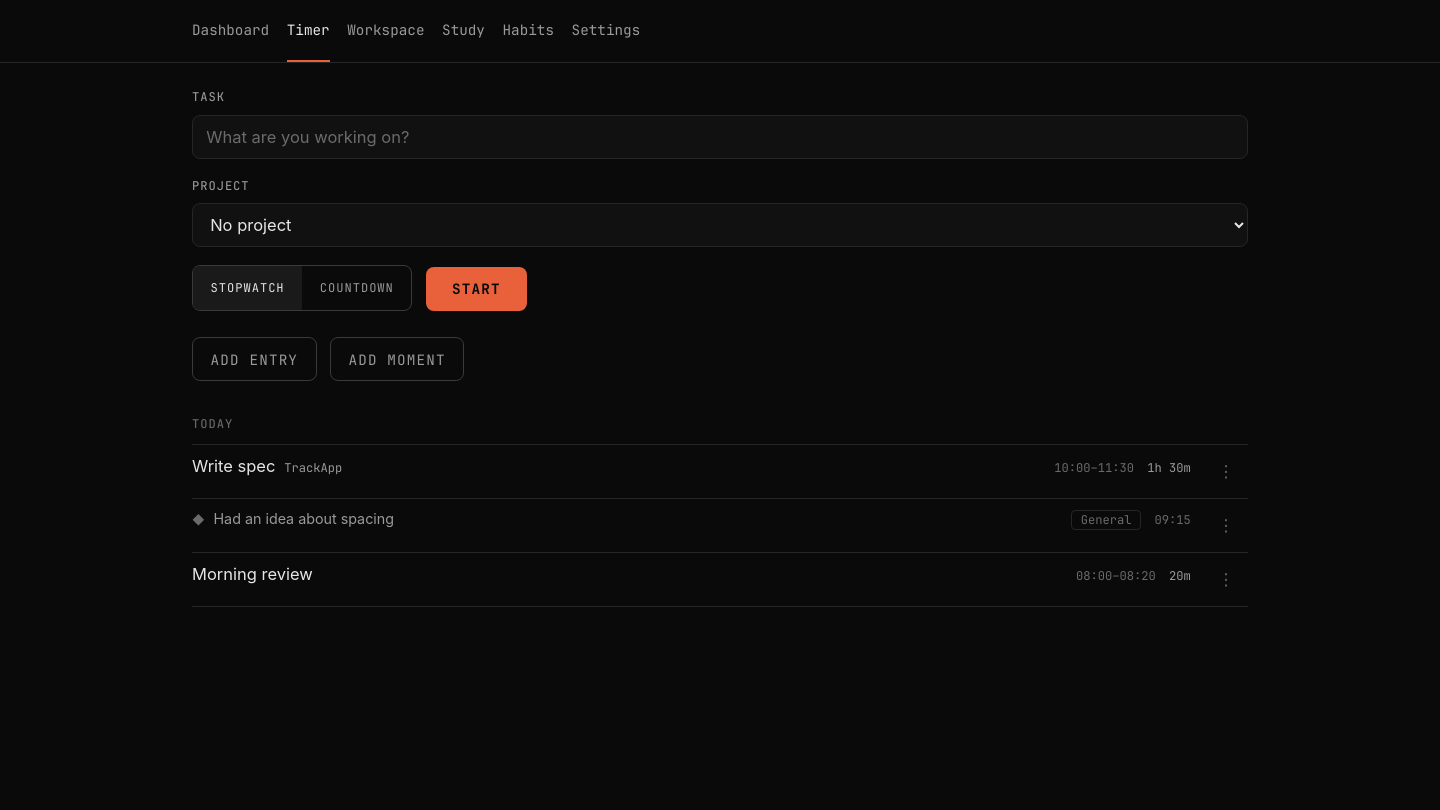
Test case: associating time with a project › moves a logged entry to a project from its ⋮ menu
Click the button named "more morning review" at (1226, 579), box top-left (1204, 562), bottom-right (1248, 597)
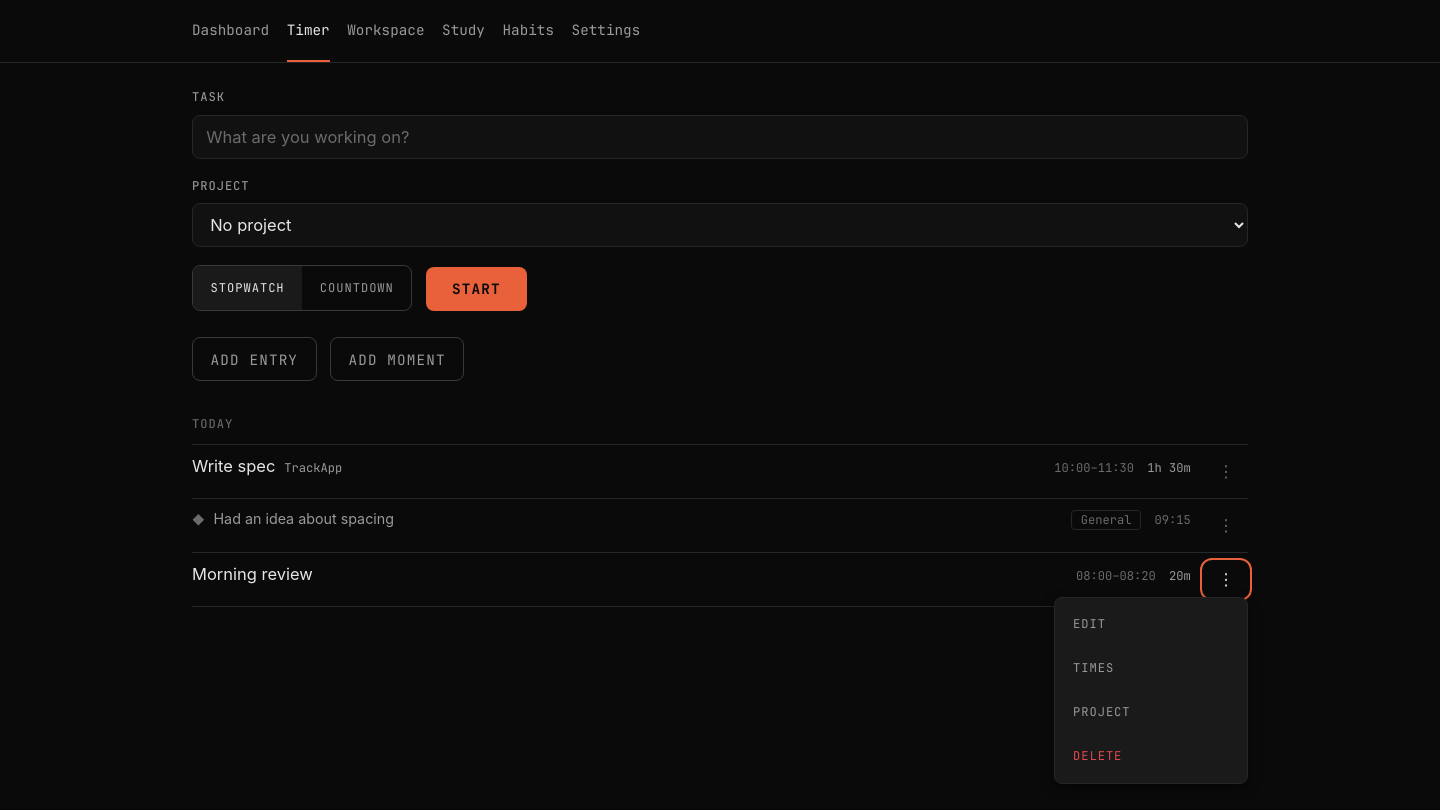
Click the button "Project" at (1151, 712), box top-left (1060, 690), bottom-right (1243, 734)
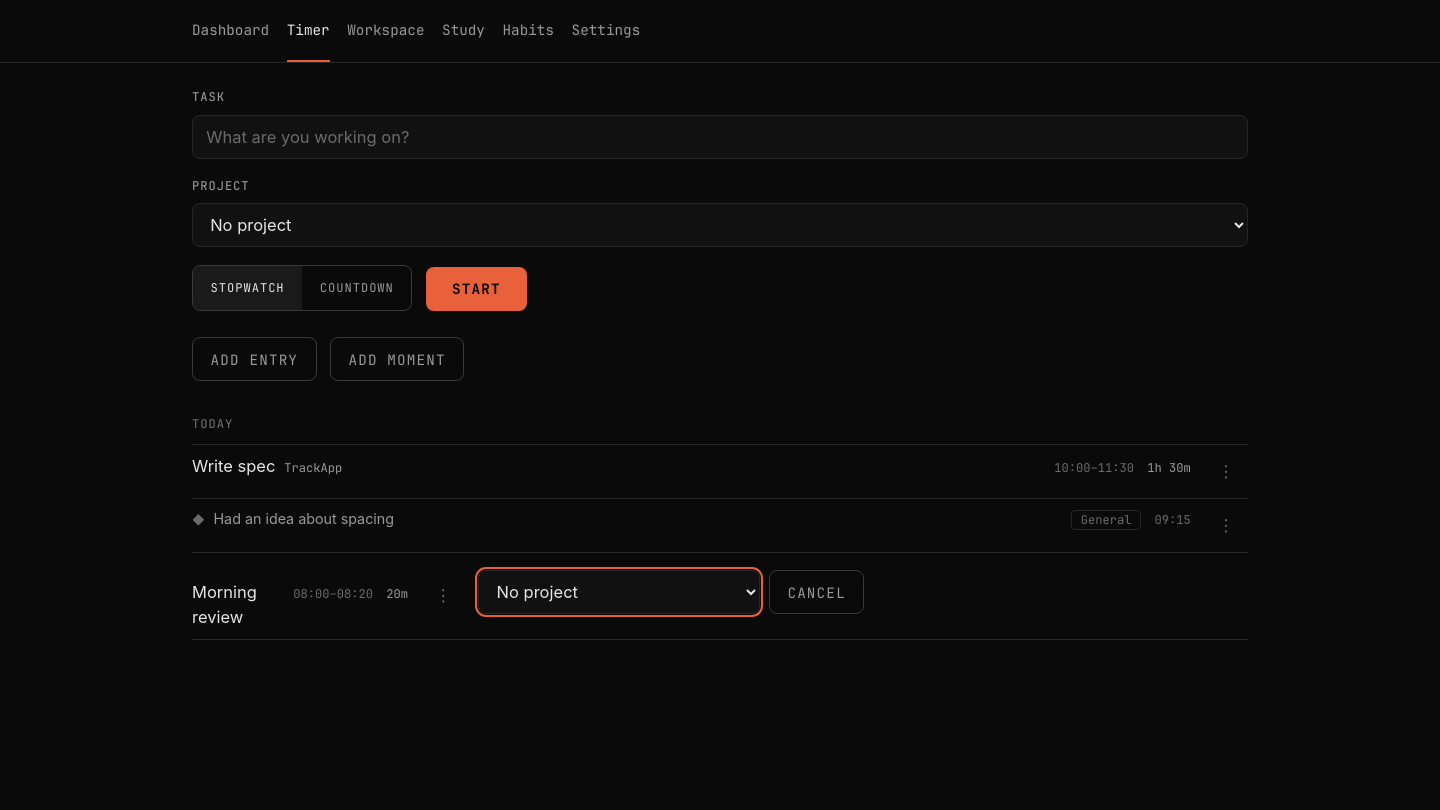
Select "TrackApp" in the dropdown named "project for morning review" at (619, 592), box top-left (478, 570), bottom-right (760, 614)
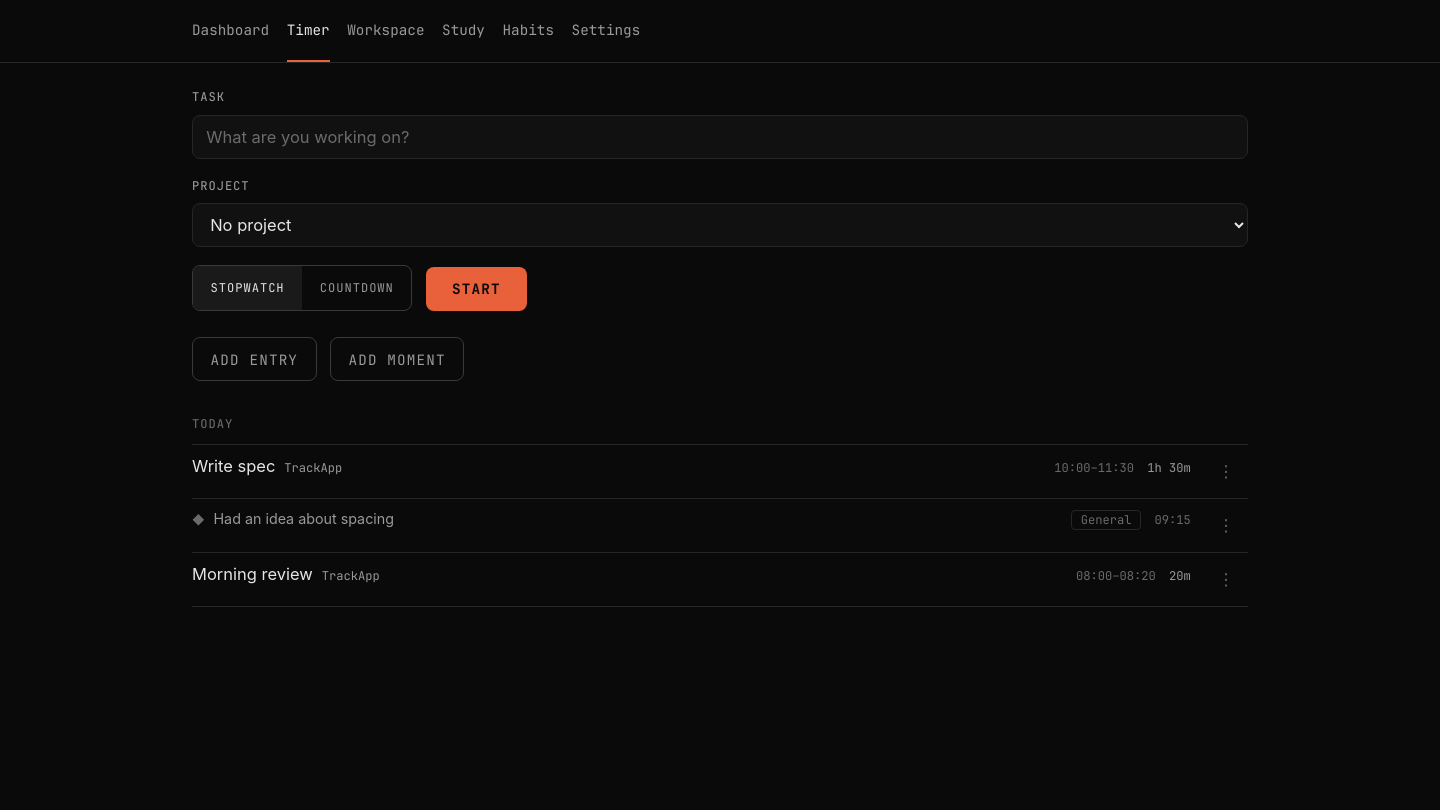
Expected: the text "TrackApp" in the row of "20m" is shown, top-left (322, 568), bottom-right (380, 584)
